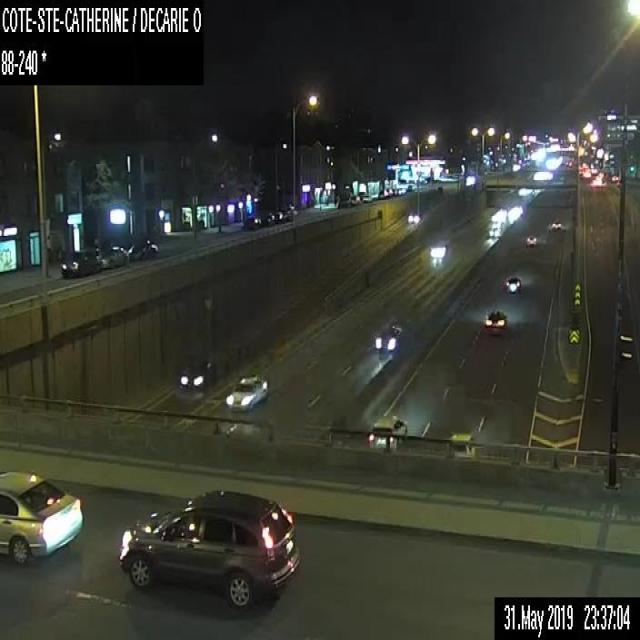vehicle: (118, 489, 301, 605), (0, 471, 83, 565), (225, 375, 268, 410), (368, 414, 408, 450), (60, 248, 100, 276), (178, 359, 211, 390), (374, 324, 404, 352), (445, 430, 474, 458), (97, 245, 128, 268), (484, 310, 507, 334), (128, 240, 158, 258), (504, 276, 521, 295), (244, 213, 262, 229), (430, 243, 447, 257), (261, 212, 274, 225), (406, 212, 421, 223), (526, 233, 536, 246), (378, 189, 388, 198), (551, 222, 561, 230), (363, 194, 371, 202), (386, 188, 392, 195)
